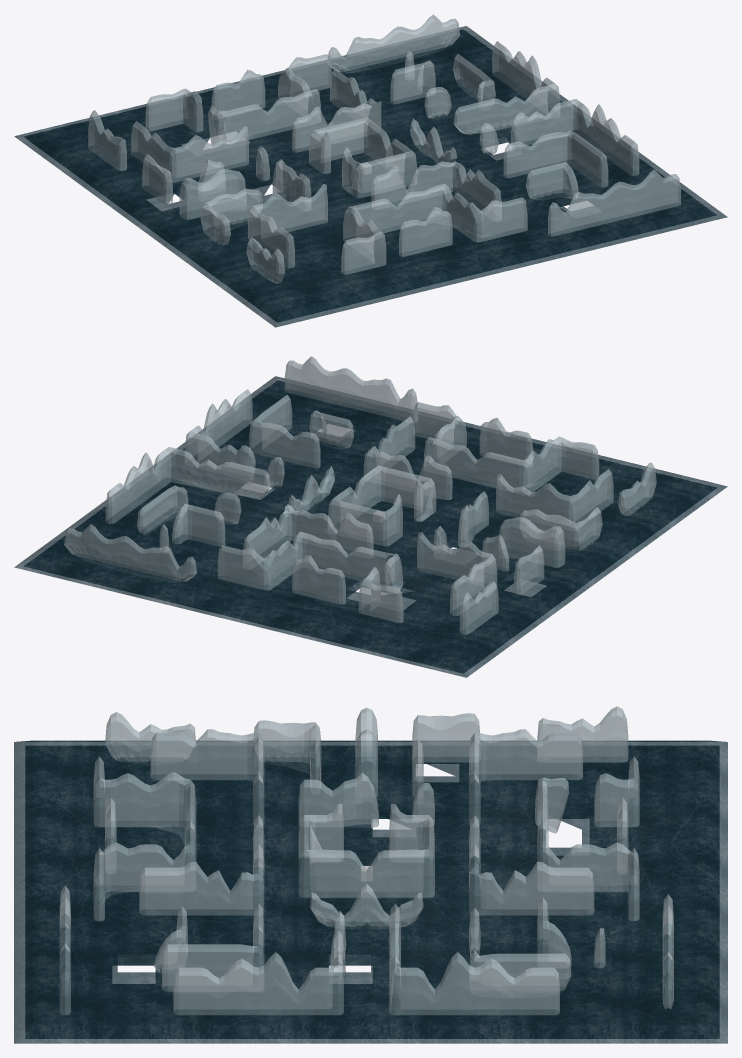
Rendered from Ice_labyrinth1.1.6blend.fbx.
3 renders of one model, top to bottom at view 1: azimuth 30°, elevation 25°; view 2: azimuth 150°, elevation 25°; view 3: azimuth 270°, elevation 25°, orthographic. The views are drawn at different scales.
Visible parts, largest first — view 1: Floor, Walls, Floor_001; view 2: Floor, Walls, Floor_001; view 3: Floor, Floor_001, Walls.
Boxes of the visible parts, x1,y1,x2,y2 form: Floor: [14, 26, 727, 327]; Walls: [88, 14, 680, 283]; Floor_001: [24, 29, 716, 322]; Floor: [14, 376, 727, 677]; Walls: [64, 356, 656, 634]; Floor_001: [24, 381, 716, 673]; Floor: [14, 740, 727, 1043]; Floor_001: [25, 746, 719, 1038]; Walls: [59, 706, 673, 1015].
Bounding box in the file's own units: 117 × 12.79 × 117.
